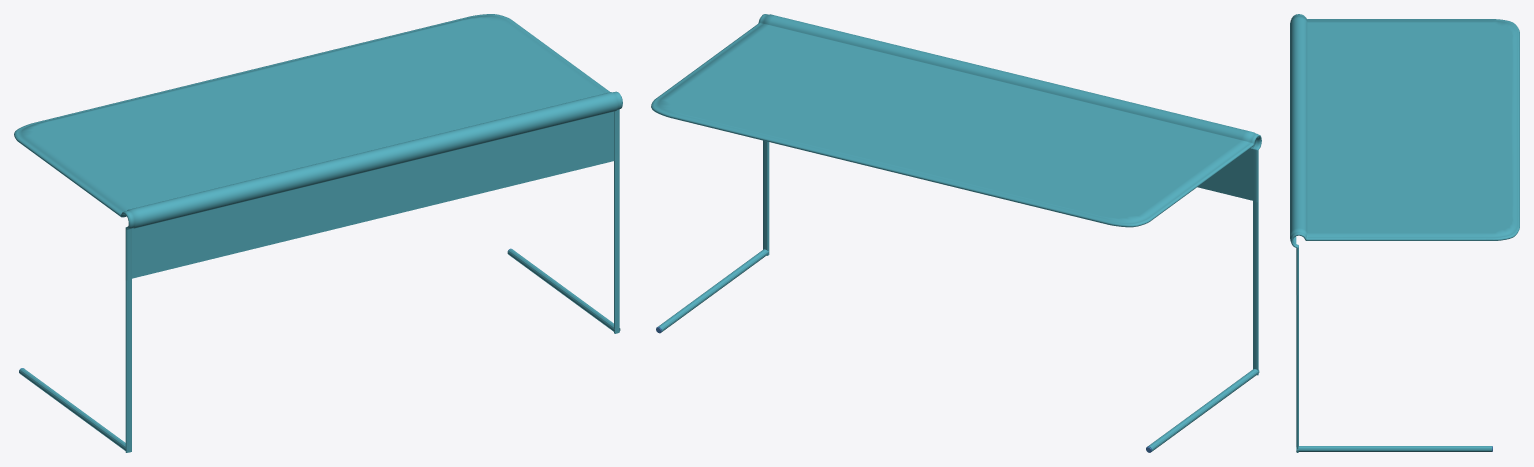
The model's file is main table.fbx.
The picture shows the model from 3 angles, left to right: view 1: azimuth 30°, elevation 25°; view 2: azimuth 150°, elevation 25°; view 3: azimuth 270°, elevation 25°; orthographic projection. The views are drawn at different scales.
Parts seen in each view (by area): view 1: main table; view 2: main table; view 3: main table.
Boxes of the visible parts, x1,y1,x2,y2 form: main table: [14, 14, 622, 452]; main table: [651, 14, 1261, 452]; main table: [1290, 14, 1519, 452].
Size of the model in its own units: 124 by 57.5 by 54.5.
